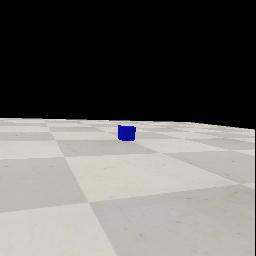box: (118, 125, 136, 141)
